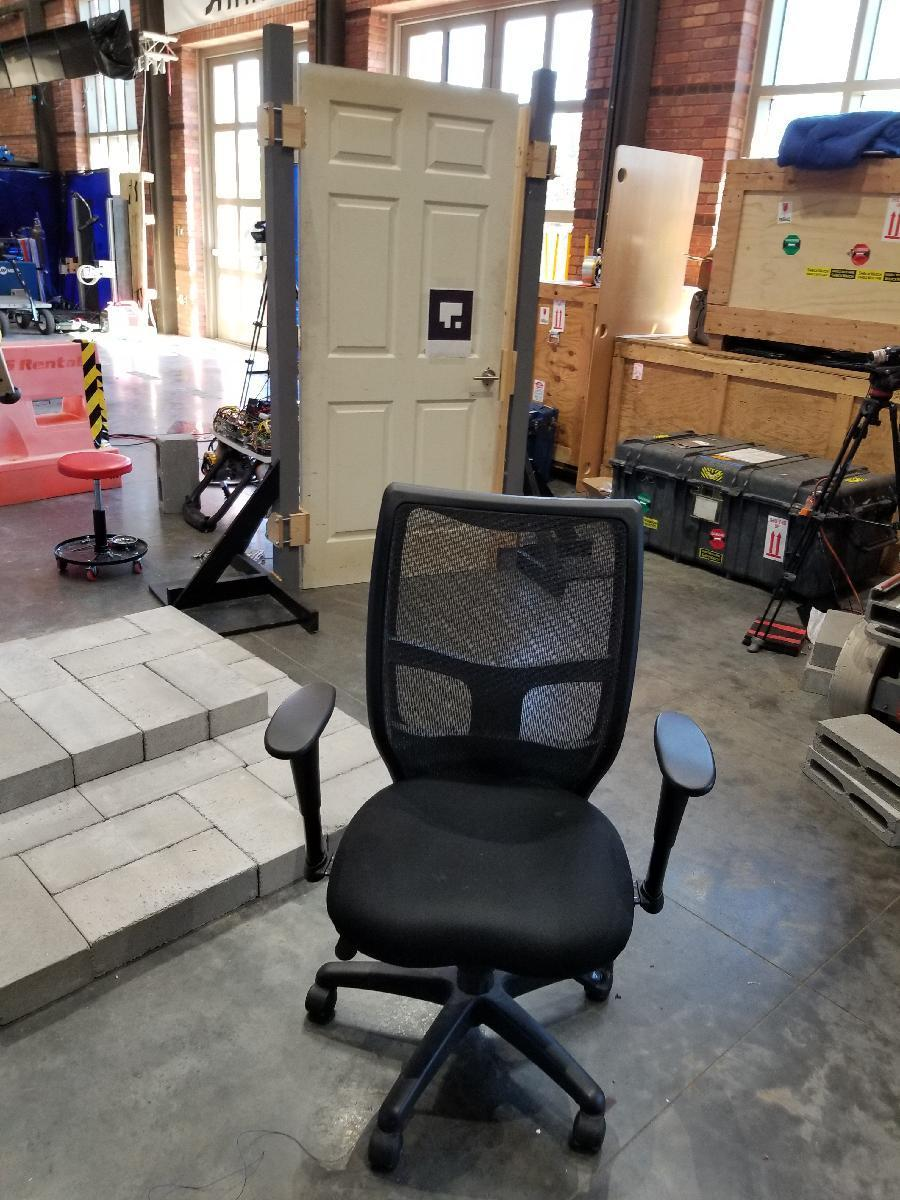door: (296, 63, 510, 578)
handle: (472, 364, 502, 388)
